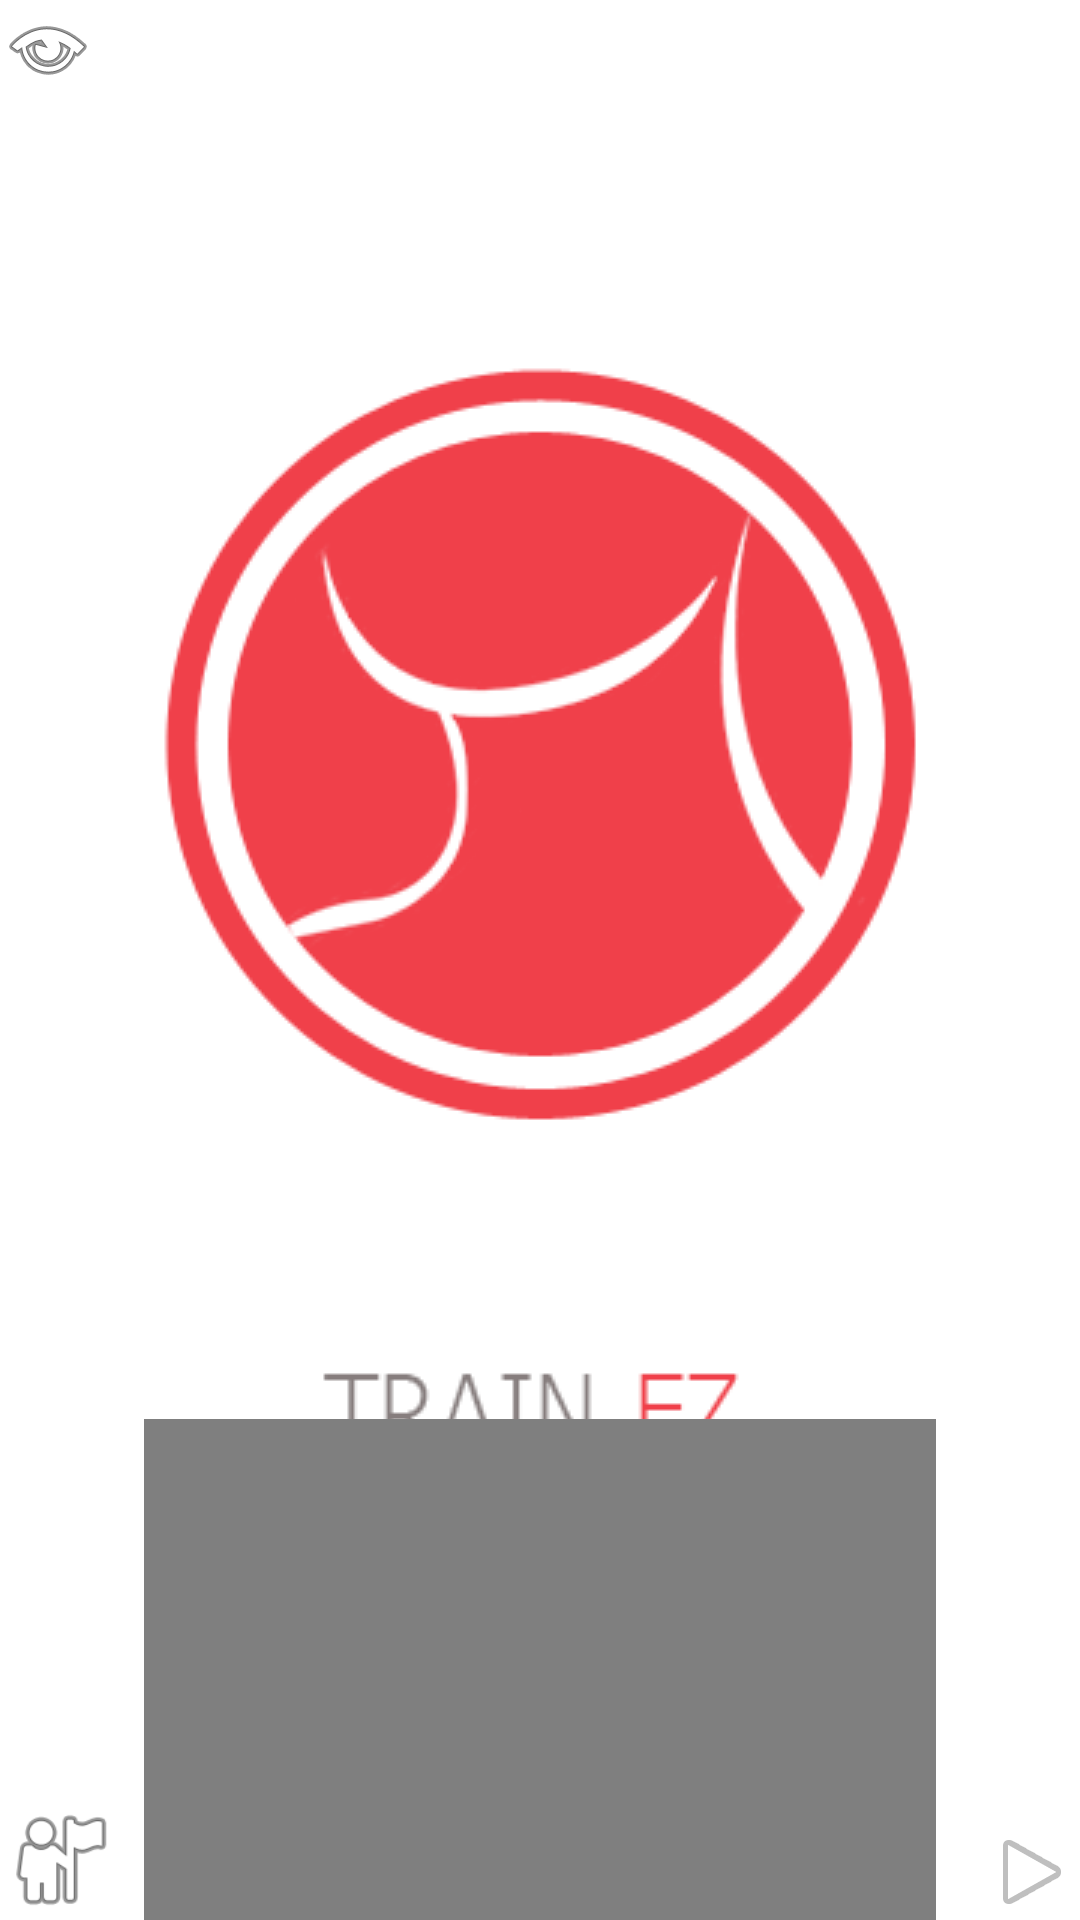

Where icons sit on this 1080 × 1920 app screen, as (x1, y1, x2, y2):
myplaces: (16, 1815, 106, 1905)
play: (1003, 1840, 1061, 1904)
view: (9, 26, 87, 75)
